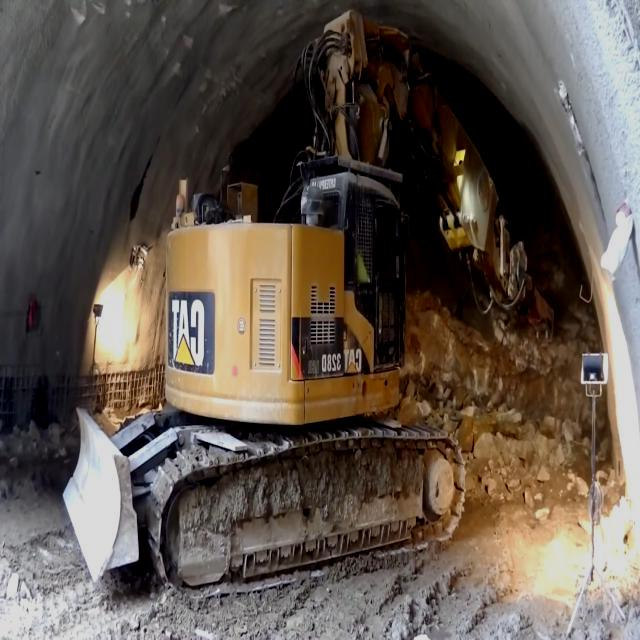machinery: (59, 10, 556, 602)
person: (356, 228, 382, 330)
vest: (356, 249, 369, 283)
